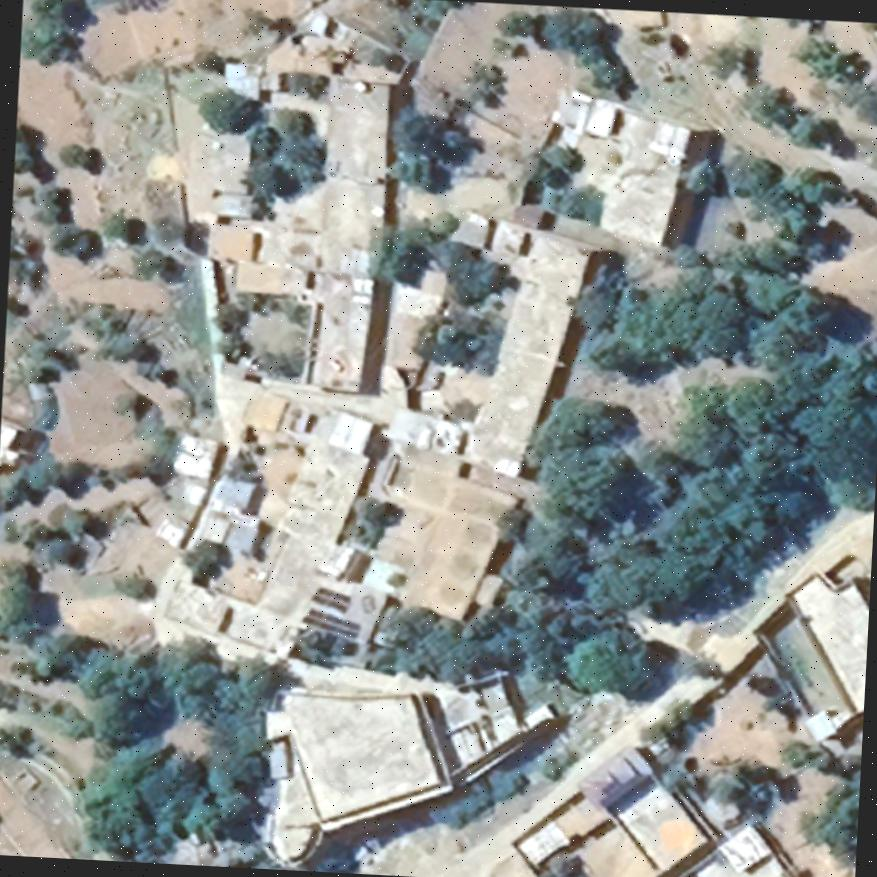Solarpanel: (300, 609, 363, 643), (310, 582, 361, 614)
